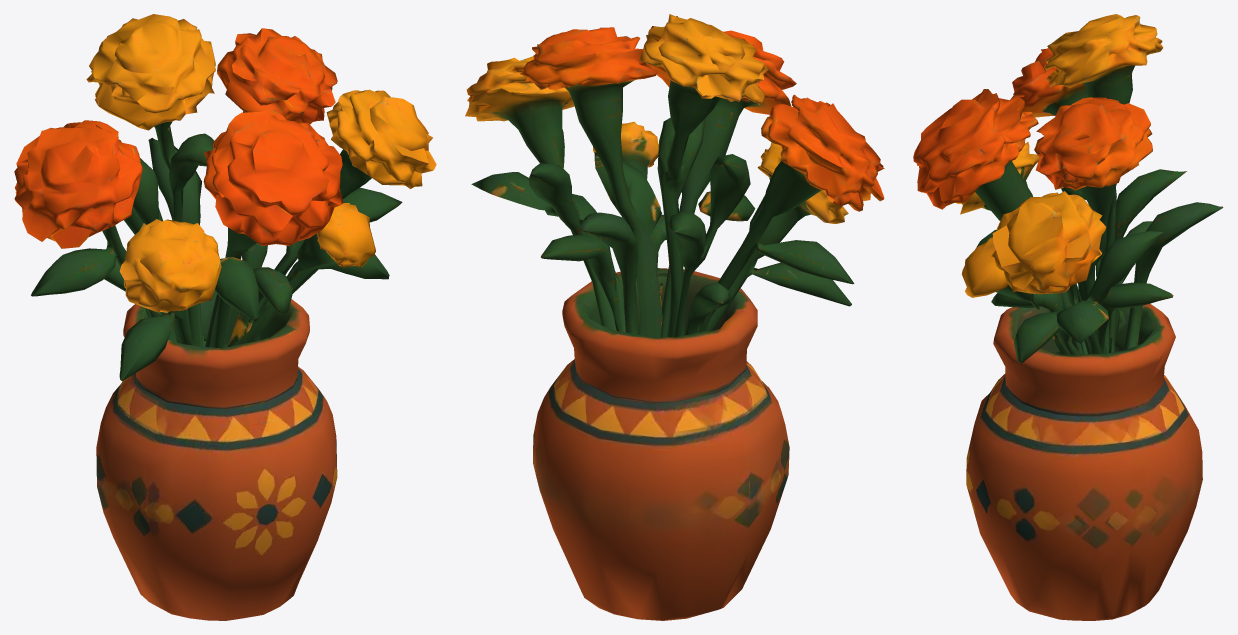
File: jarro-cencpasuchil-optimized.glb
3 renders of one model, left to right at view 1: azimuth 30°, elevation 25°; view 2: azimuth 150°, elevation 25°; view 3: azimuth 270°, elevation 25°, orthographic. The views are drawn at different scales.
Visible parts, largest first — view 1: mesh_node; view 2: mesh_node; view 3: mesh_node.
Part boxes in pixels (left/top/right/bottom): mesh_node: left=14, top=14, right=436, bottom=620; mesh_node: left=465, top=14, right=884, bottom=620; mesh_node: left=913, top=14, right=1223, bottom=620.
Size of the model in its own units: 1.39 by 1.9 by 0.9708.
Materials: 1 (1 with a texture image).
